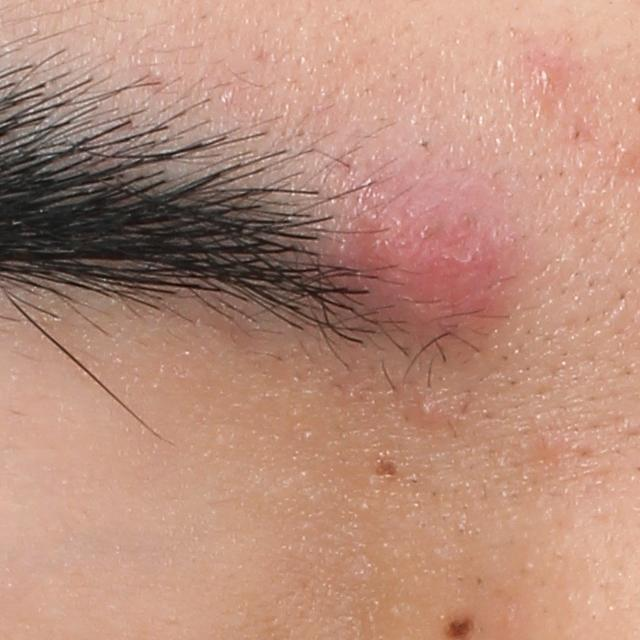nevus: (371, 457, 404, 479)
nodule: (334, 148, 522, 333)
